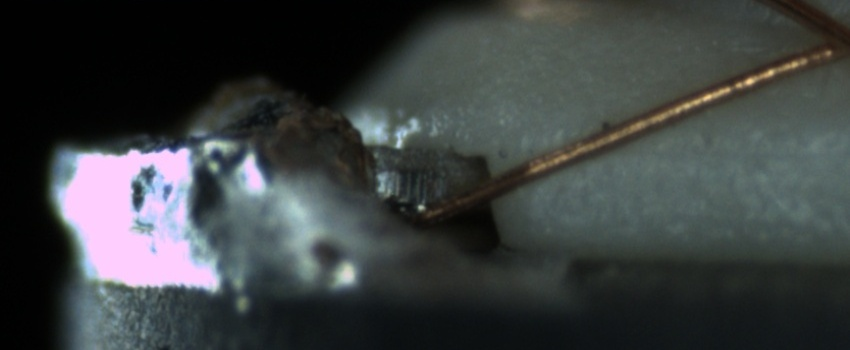CL: (791, 7, 849, 67)
DL: (566, 118, 845, 182)
